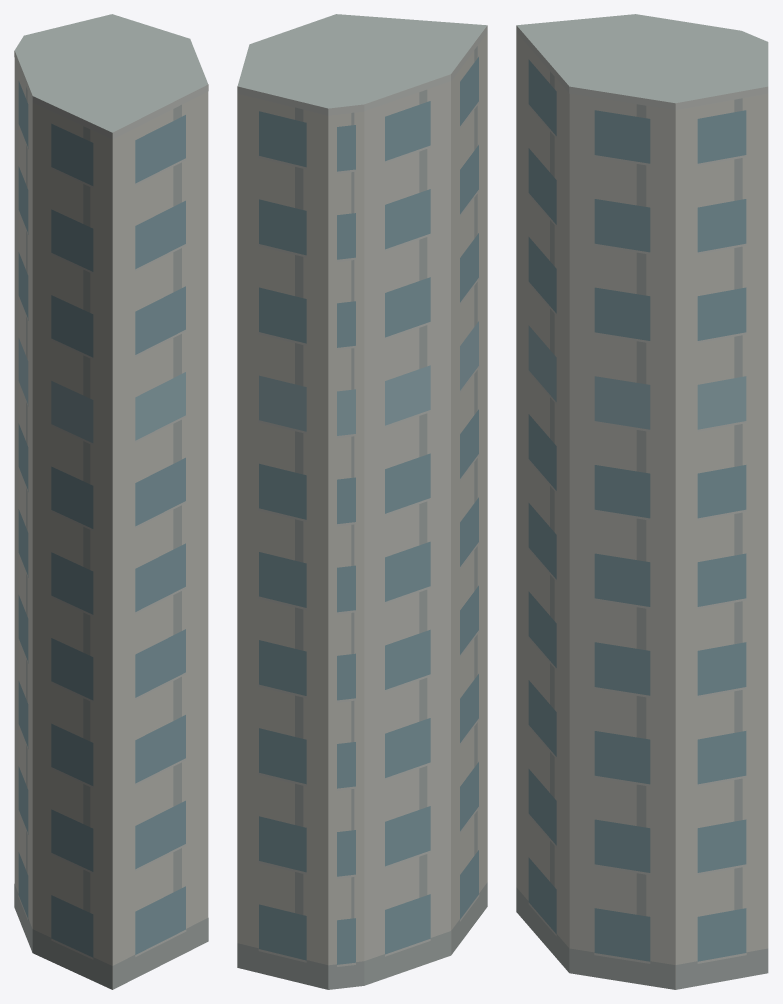
File: survey-upis-32934935.glb
3 views of the same model, side by side, from view 1: azimuth 30°, elevation 25°; view 2: azimuth 150°, elevation 25°; view 3: azimuth 270°, elevation 25° (orthographic). The views are drawn at different scales.
Parts seen in each view (by area): view 1: survey-upis-32934935.tmp; view 2: survey-upis-32934935.tmp; view 3: survey-upis-32934935.tmp.
Part boxes in pixels (x1,y1,x2,y2): survey-upis-32934935.tmp: (14,14,208,989); survey-upis-32934935.tmp: (237,14,487,989); survey-upis-32934935.tmp: (516,14,768,989).
Bounding box in the file's own units: 6.59 × 30.5 × 7.87.
